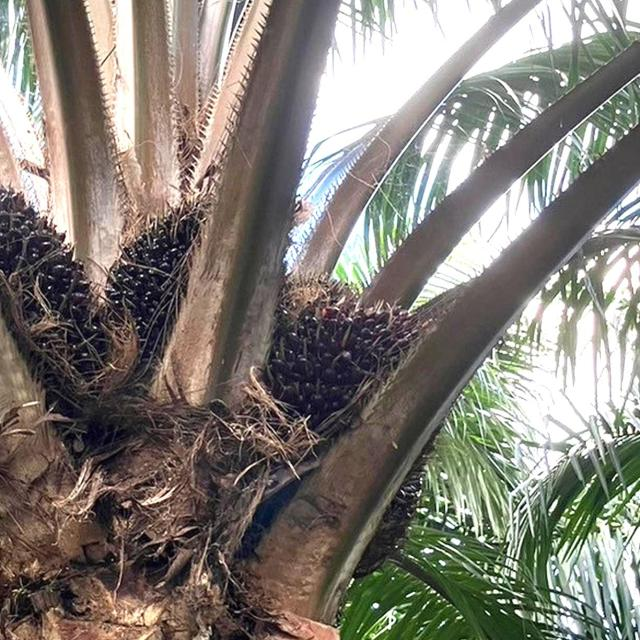ripe: (278, 306, 416, 422), (113, 212, 220, 346)
